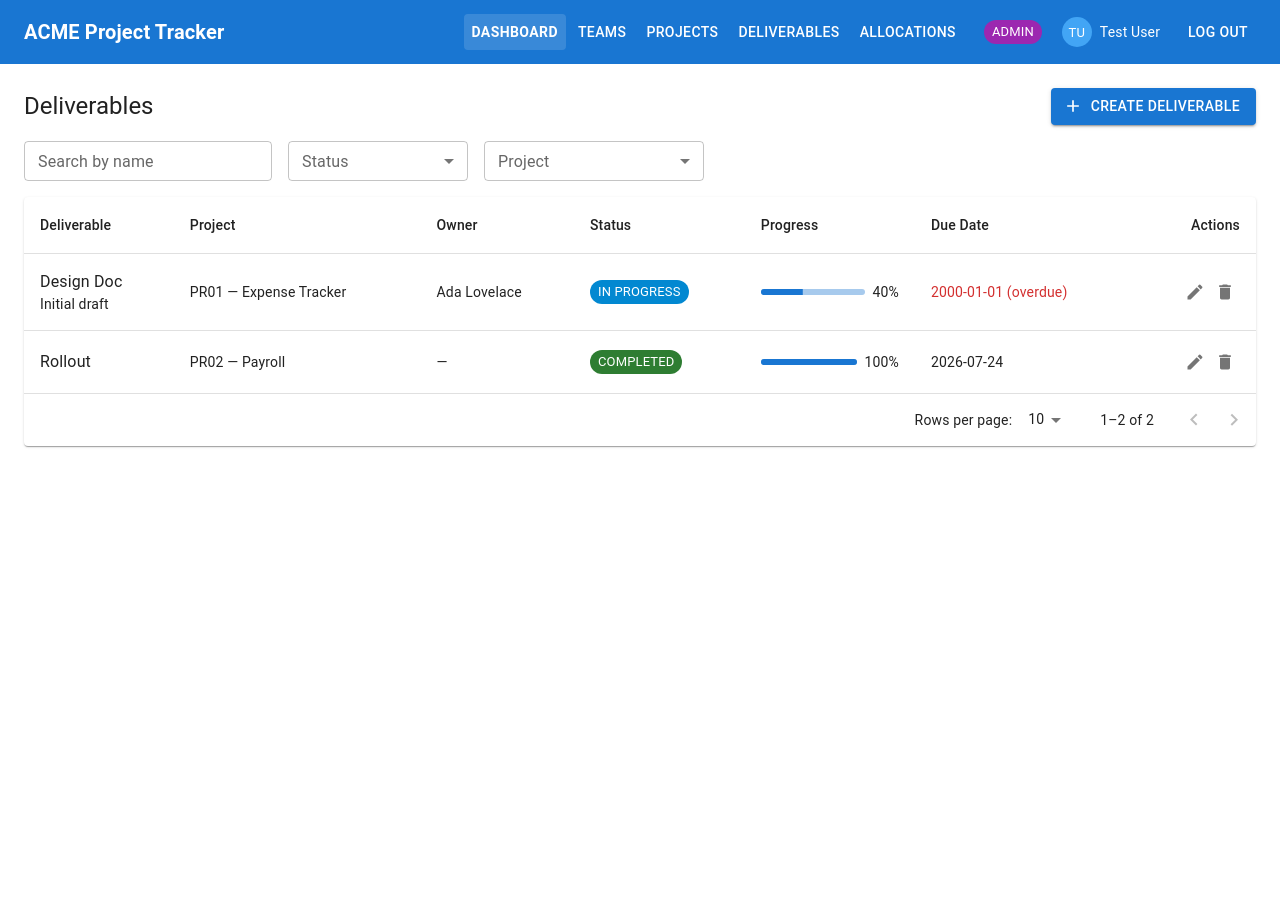
pagination and delete-cancel › cancels the delete confirmation
This screenshot has width=1280, height=900.
Check: the text "Design Doc" is shown, box [40,272,122,290]
Click the 4th button at (1225, 292), box [1210,276,1240,306]
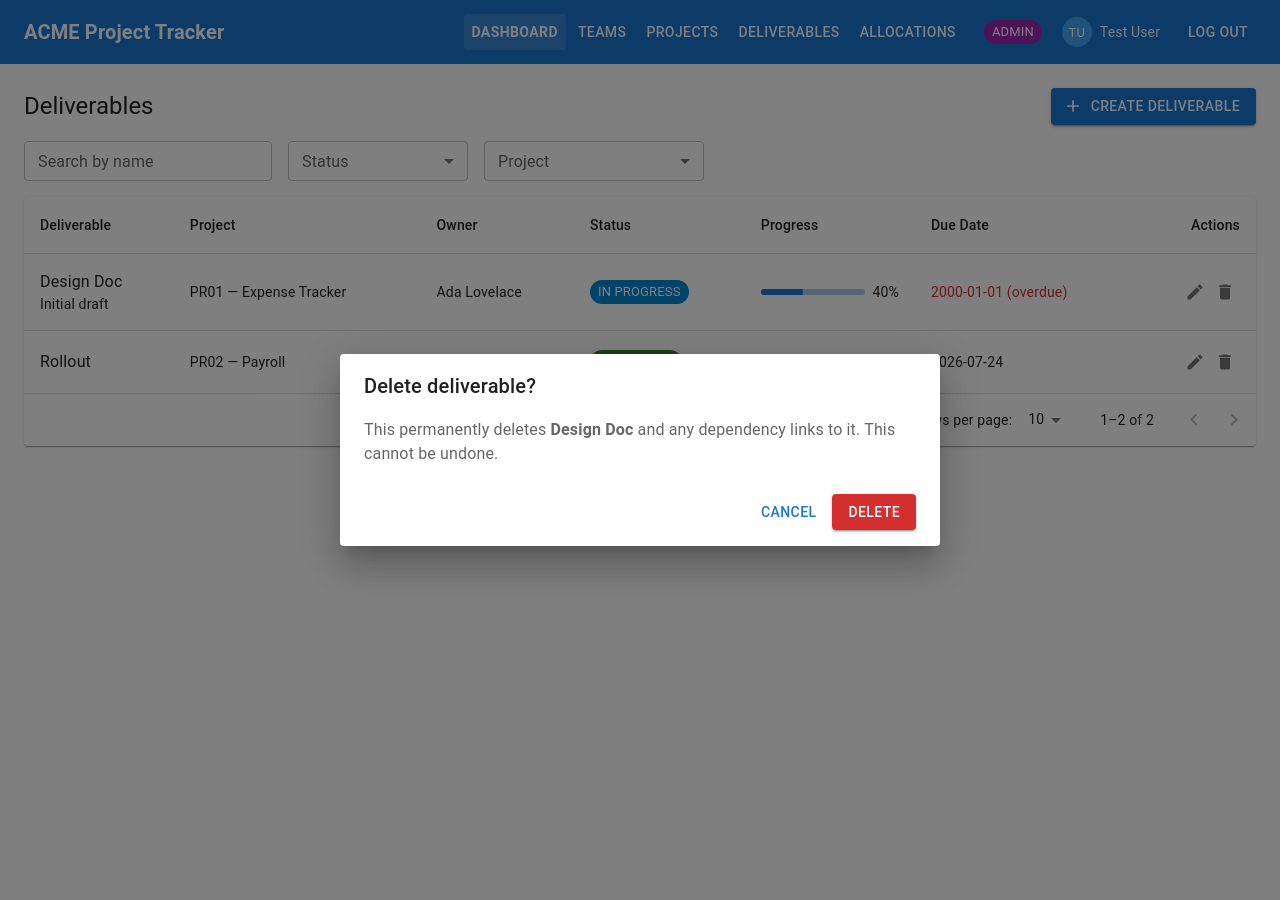
Check: the heading "Delete deliverable?" is shown, box [364,374,536,398]
Click the button "Cancel" at (789, 512), box [753,494,824,530]
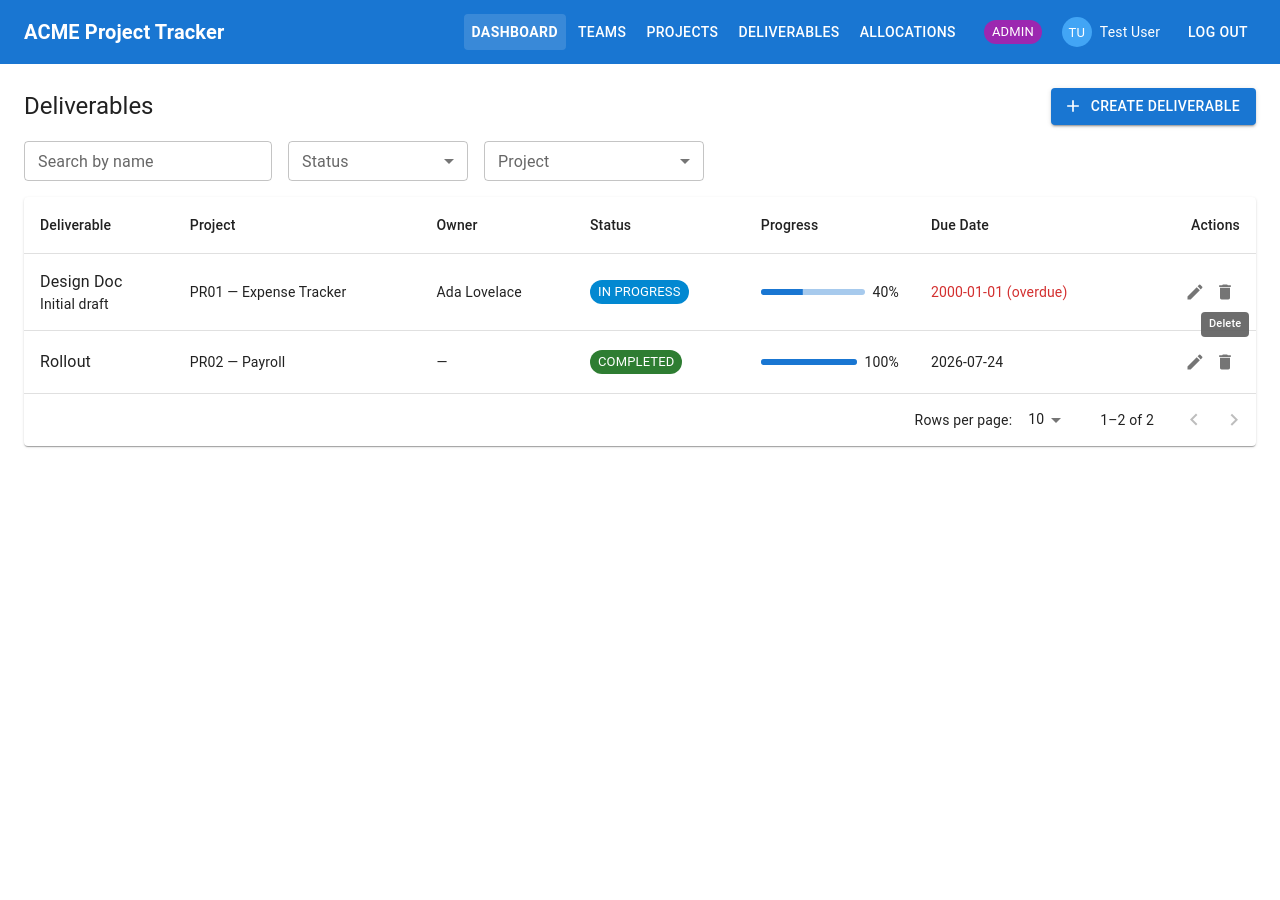
Check: the heading "Delete deliverable?" is gone
